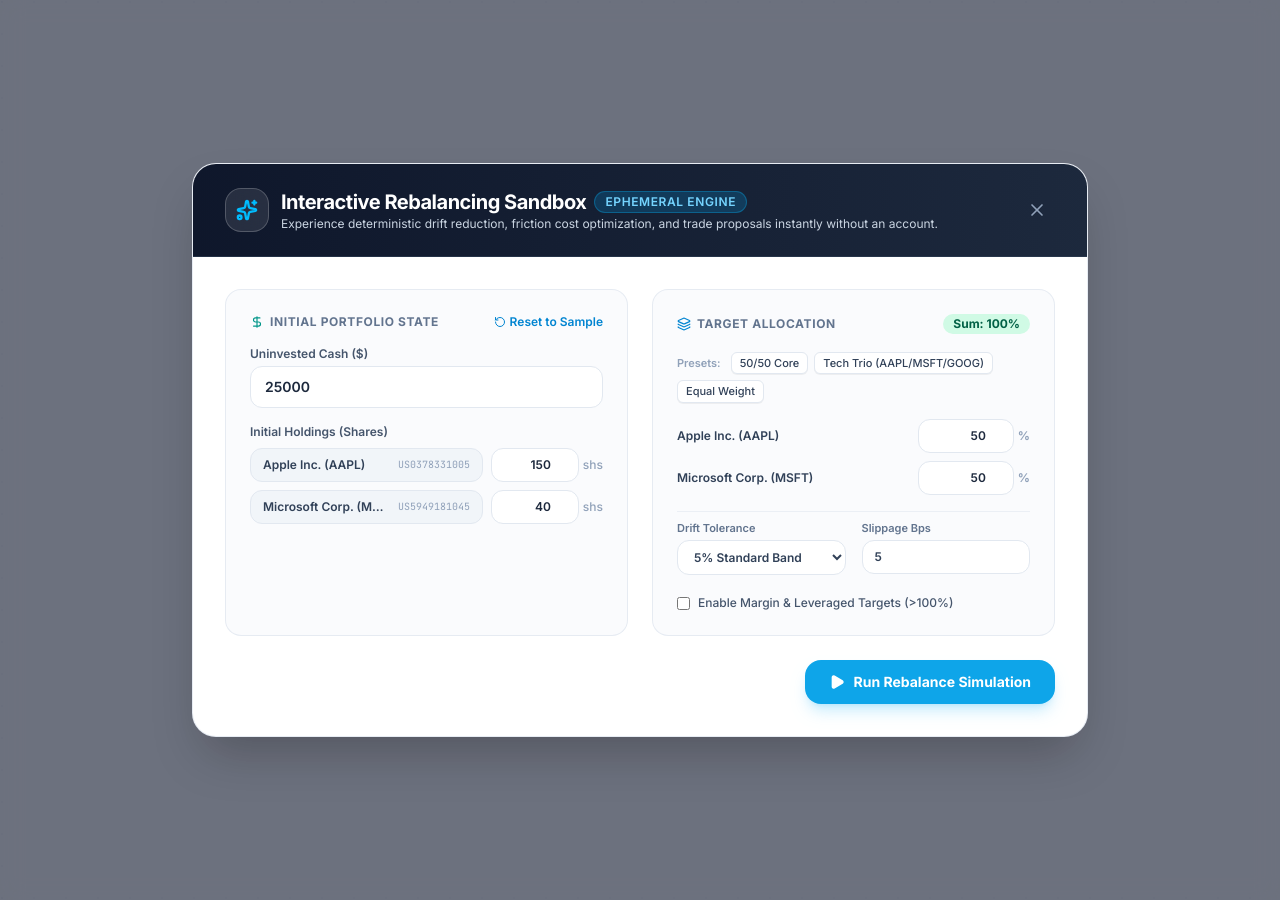
Test: Slice 6: Commercial Funnel & White-Label Theming › renders marketing sandbox modal and calculates simulated rebalance outcomes
This screenshot has width=1280, height=900.
Expected: the heading "Interactive Rebalancing Sandbox Ephemeral Engine" is shown, [281,190,747,214]
Click the button "Run Rebalance Simulation": (930, 682) [806,660,1055,704]
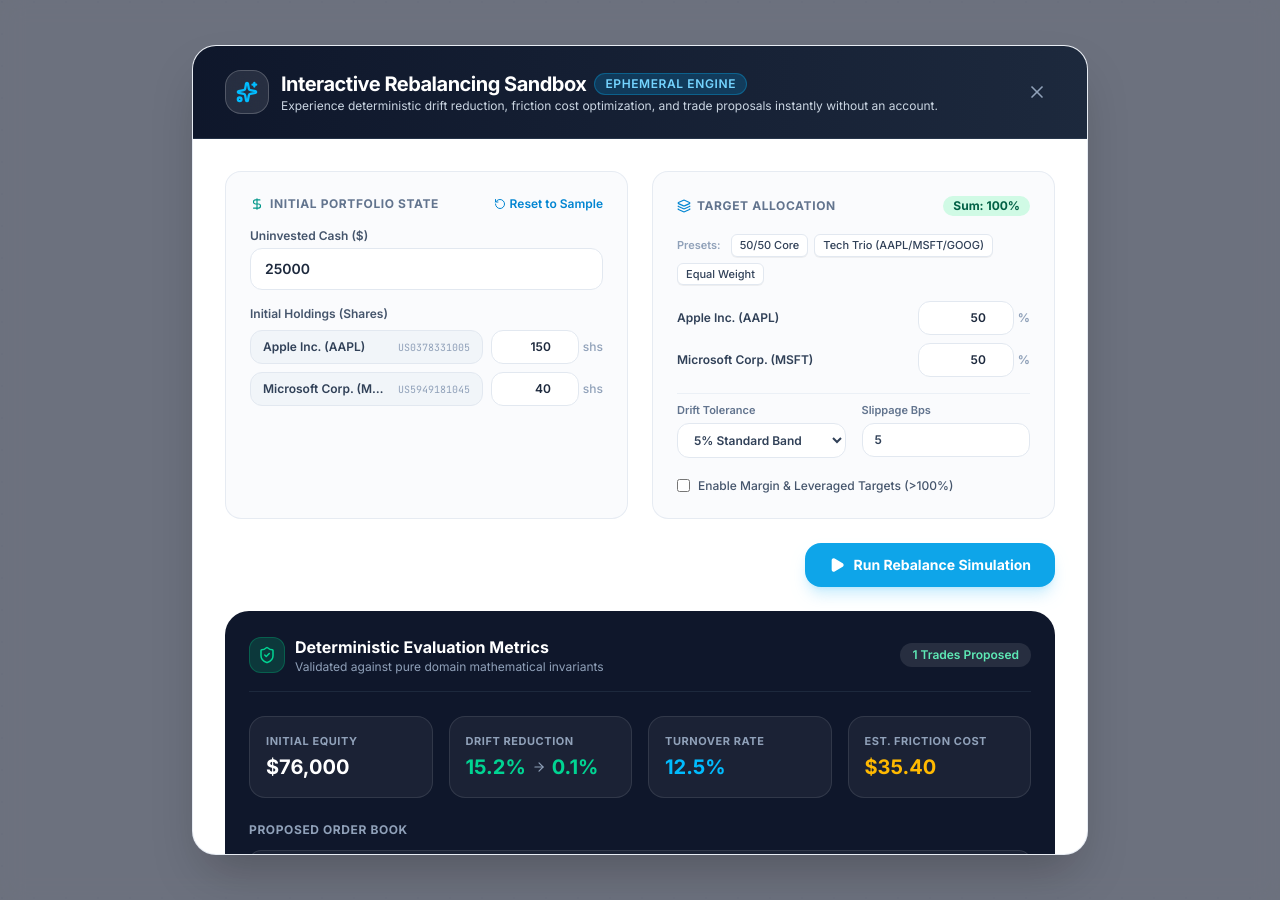
Result: the heading "Deterministic Evaluation Metrics" is shown at [295,636,549,656]
Result: the text "12.5%" is shown at [665,755,726,779]
Result: the text "$35.40" is shown at [864,755,936,779]
